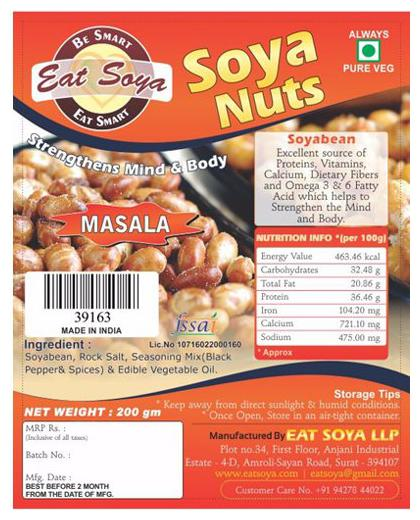fssai: (170, 309, 219, 336)
